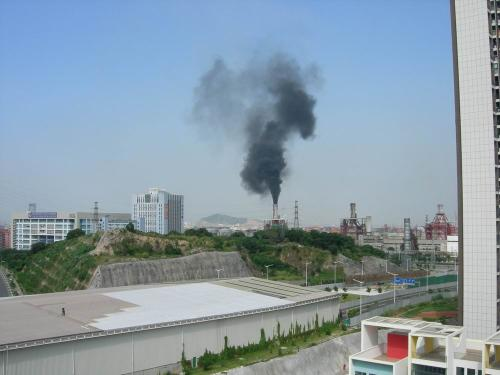smoke: (210, 55, 319, 199)
